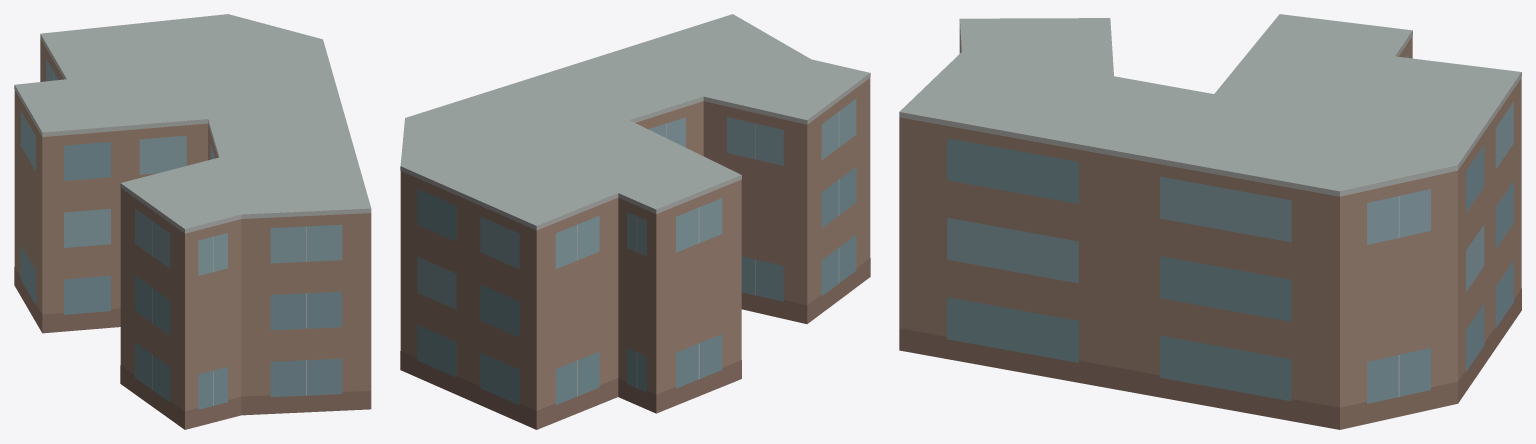
File: survey-upis-32492512.glb
The picture shows the model from 3 angles, left to right: view 1: azimuth 30°, elevation 25°; view 2: azimuth 150°, elevation 25°; view 3: azimuth 270°, elevation 25°; orthographic projection. The views are drawn at different scales.
Parts seen in each view (by area): view 1: survey-upis-32492512.tmp; view 2: survey-upis-32492512.tmp; view 3: survey-upis-32492512.tmp.
Boxes of the visible parts, bbox=[...] form: survey-upis-32492512.tmp: bbox=[14, 14, 371, 429]; survey-upis-32492512.tmp: bbox=[400, 14, 870, 429]; survey-upis-32492512.tmp: bbox=[899, 14, 1521, 429].
Size of the model in its own units: 17.4 by 10.9 by 25.8.
